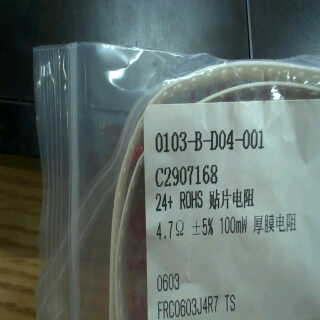4.7R: (155, 215, 189, 244)
